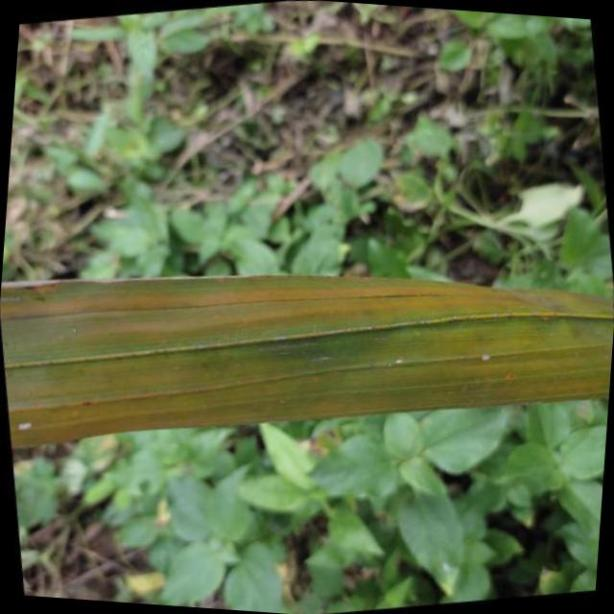Megnesium: (3, 274, 614, 454)
